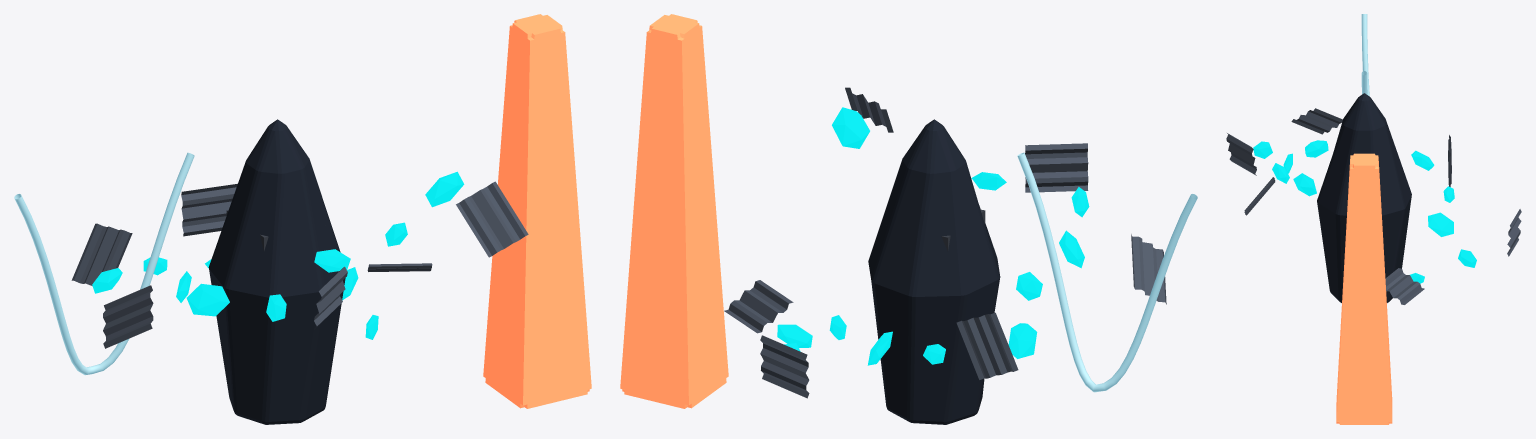
File: storm_storyboard_assets.glb
3 renders of one model, left to right at view 1: azimuth 30°, elevation 25°; view 2: azimuth 150°, elevation 25°; view 3: azimuth 270°, elevation 25°, orthographic. The views are drawn at different scales.
Visible parts, largest first — view 1: HazardPylon, StormMonolith, MooringRope, TumblingYero_5, TumblingYero_1, TumblingYero_3, TumblingYero_2, OrbitalShard_7, TumblingYero_4, OrbitalShard_11, OrbitalShard_9, TumblingYero_0; view 2: HazardPylon, StormMonolith, MooringRope, TumblingYero_4, TumblingYero_2, TumblingYero_1, TumblingYero_0, TumblingYero_3, OrbitalShard_11, TumblingYero_5, OrbitalShard_5, OrbitalShard_1 (+2 smaller); view 3: HazardPylon, StormMonolith, TumblingYero_0, TumblingYero_3, TumblingYero_4, MooringRope, OrbitalShard_3, OrbitalShard_11, TumblingYero_1, OrbitalShard_7.
Part boxes in pixels (box(x1,y1,x2,y2)): HazardPylon: box(483, 14, 591, 408); StormMonolith: box(208, 119, 345, 424); MooringRope: box(14, 152, 194, 375); TumblingYero_5: box(456, 181, 528, 257); TumblingYero_1: box(181, 183, 237, 236); TumblingYero_3: box(103, 285, 153, 348); TumblingYero_2: box(71, 223, 132, 285); OrbitalShard_7: box(186, 283, 229, 316); TumblingYero_4: box(314, 266, 347, 329); OrbitalShard_11: box(425, 171, 464, 207); OrbitalShard_9: box(314, 249, 350, 272); TumblingYero_0: box(367, 263, 432, 271); HazardPylon: box(620, 14, 728, 408); StormMonolith: box(868, 119, 1000, 424); MooringRope: box(1017, 152, 1197, 392); TumblingYero_4: box(1025, 143, 1088, 192); TumblingYero_2: box(956, 312, 1018, 379); TumblingYero_1: box(760, 335, 809, 398); TumblingYero_0: box(724, 280, 793, 333); TumblingYero_3: box(1131, 234, 1166, 304); OrbitalShard_11: box(832, 107, 869, 148); TumblingYero_5: box(845, 87, 893, 132); OrbitalShard_5: box(1008, 323, 1037, 358); OrbitalShard_1: box(777, 324, 812, 347); HazardPylon: box(1336, 153, 1392, 424); StormMonolith: box(1317, 93, 1411, 302); TumblingYero_0: box(1385, 268, 1424, 304); TumblingYero_3: box(1291, 108, 1342, 134); TumblingYero_4: box(1226, 133, 1256, 175); MooringRope: box(1361, 14, 1369, 96); OrbitalShard_3: box(1428, 212, 1453, 236); OrbitalShard_11: box(1293, 173, 1316, 196); TumblingYero_1: box(1507, 209, 1521, 256); OrbitalShard_7: box(1305, 140, 1328, 157).
Size of the model in its own units: 12.87 by 8 by 8.45.
